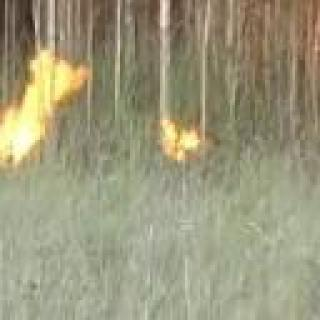fire: (0, 55, 88, 167), (159, 124, 206, 162)
